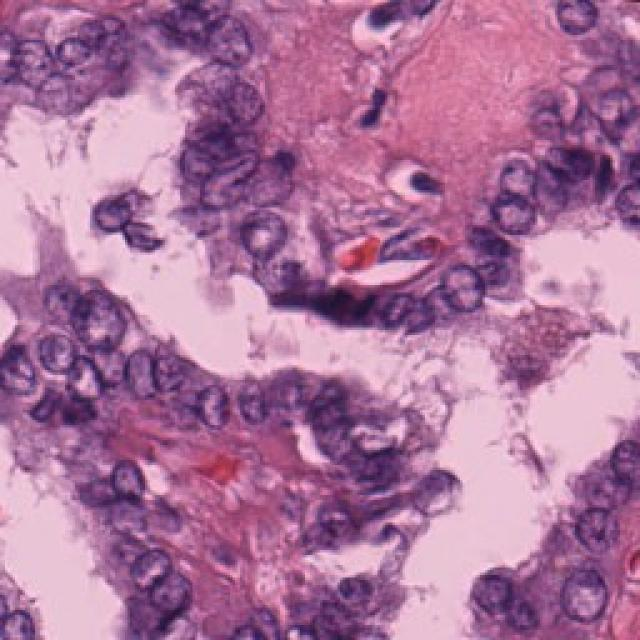abnormal: (546, 546, 633, 640), (53, 278, 148, 362), (566, 56, 640, 150), (222, 205, 305, 273), (197, 138, 273, 207), (215, 367, 285, 440), (95, 443, 168, 510), (404, 462, 468, 535), (435, 258, 502, 325), (570, 487, 633, 558), (0, 27, 65, 95), (142, 555, 200, 627), (123, 535, 182, 605), (23, 327, 90, 388), (378, 285, 438, 353), (115, 345, 172, 415), (187, 374, 245, 438), (30, 68, 78, 144), (480, 188, 543, 244), (167, 140, 245, 183), (534, 0, 614, 40), (83, 190, 142, 243), (0, 340, 45, 407), (75, 463, 77, 467)
